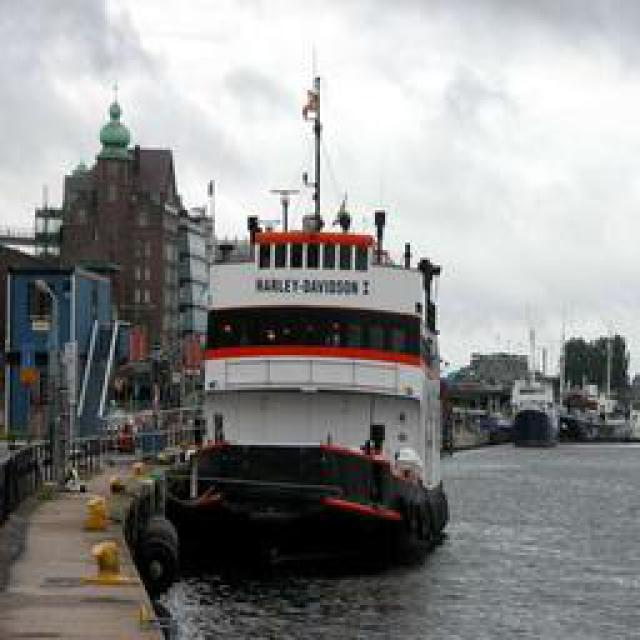Ship: (167, 45, 455, 583)
